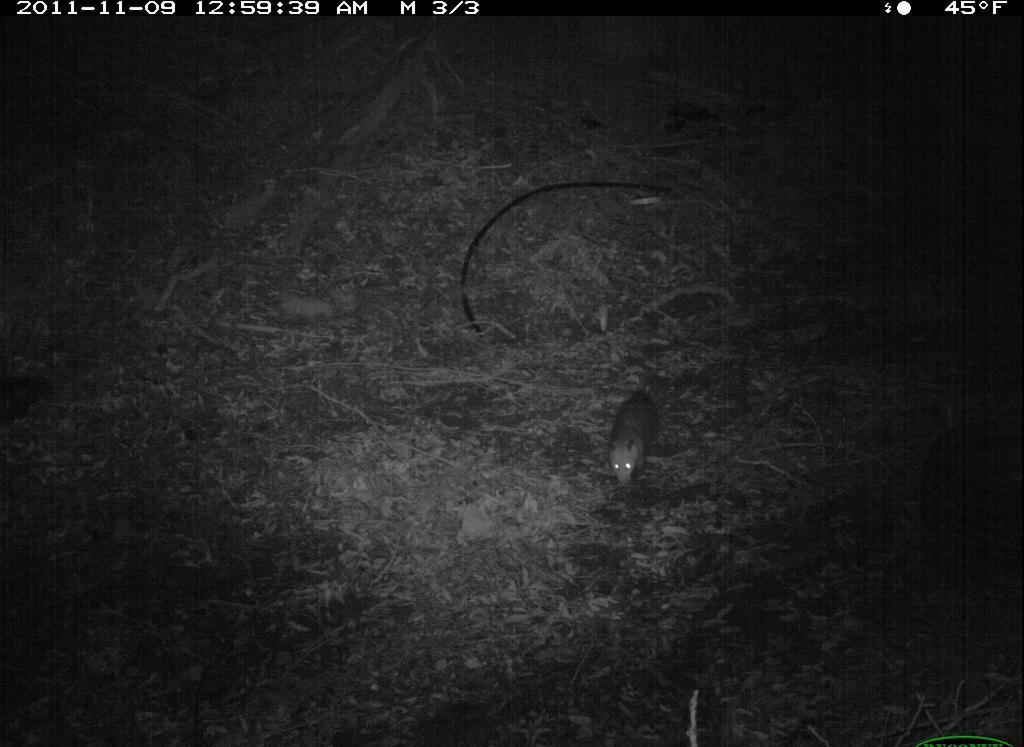opossum: (601, 366, 677, 503)
